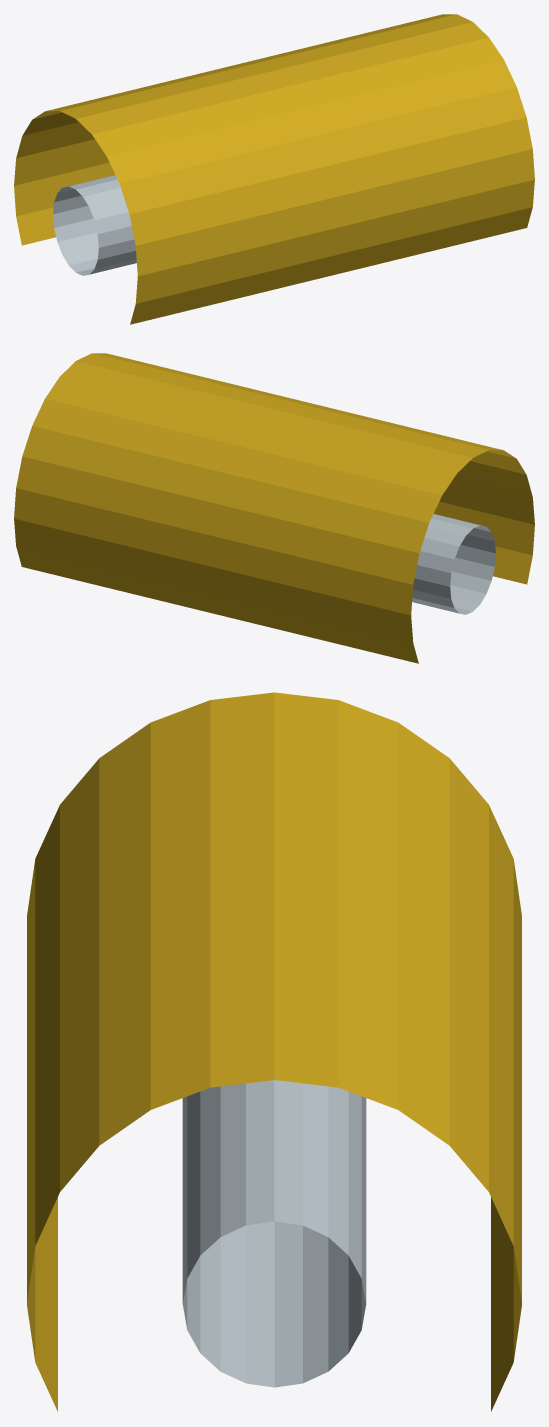
File: cell_87.obj
3 views of the same model, one above another, from view 1: azimuth 30°, elevation 25°; view 2: azimuth 150°, elevation 25°; view 3: azimuth 270°, elevation 25° (orthographic). The views are drawn at different scales.
Size of the model in its own units: 1 by 0.4 by 0.54.
